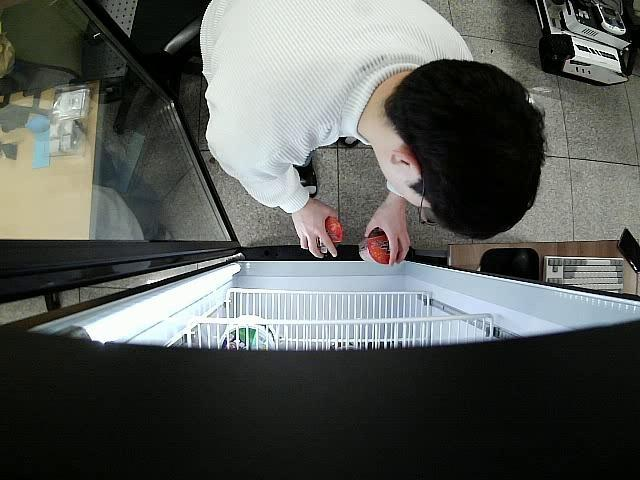02_shinRamen_S: (356, 226, 398, 266), (308, 216, 344, 254)
